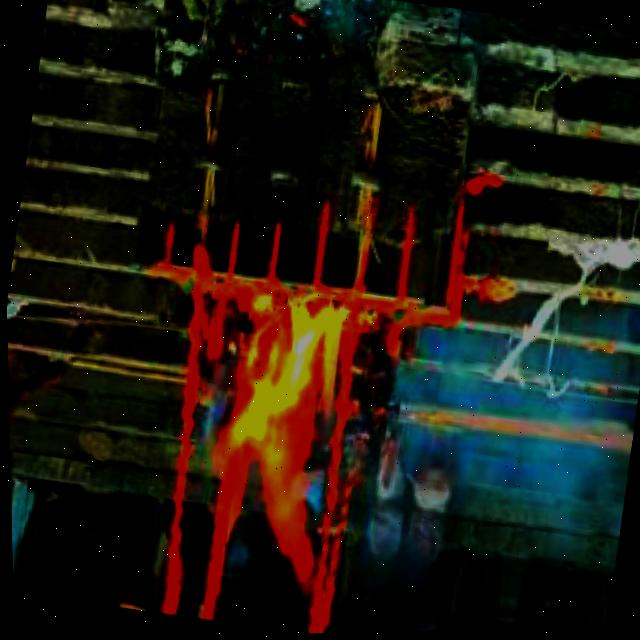Fire: (196, 285, 364, 547)
